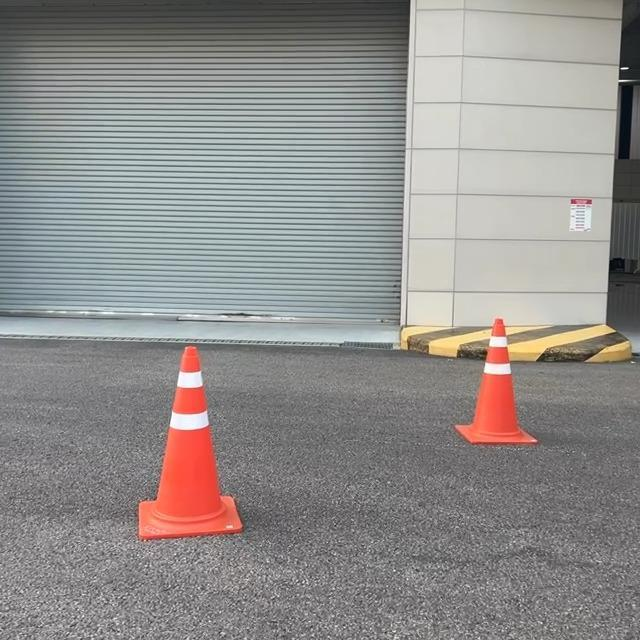fallen_object: (133, 343, 269, 574), (423, 313, 574, 489)
